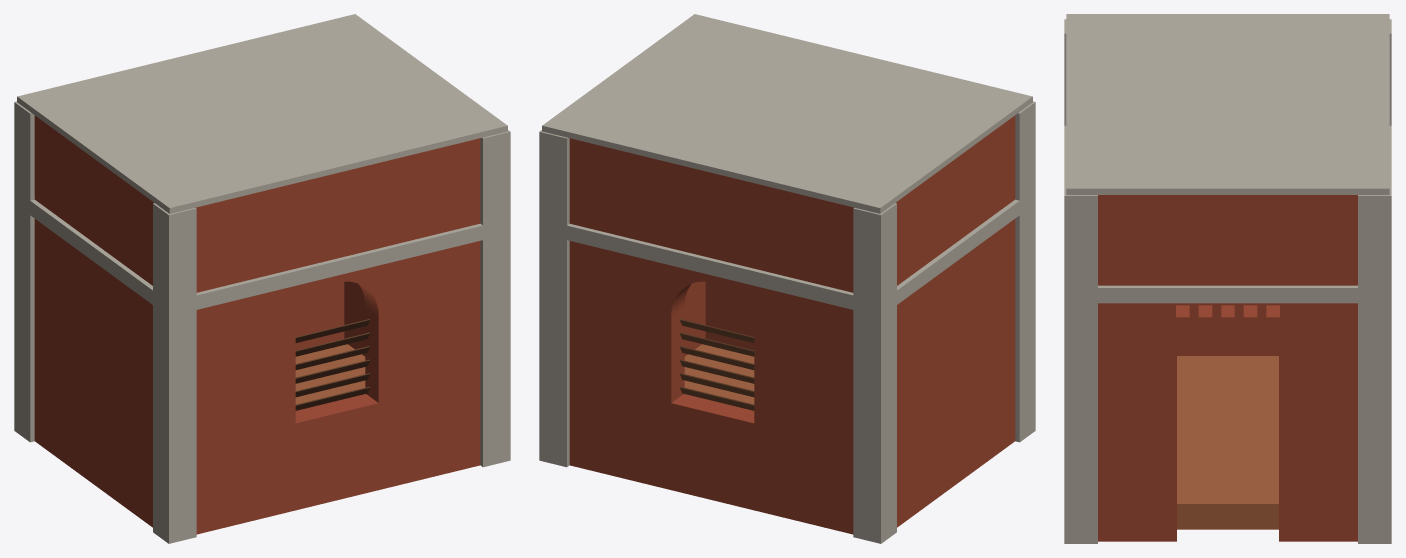
Rendered from room_bd.glb.
3 renders of one model, left to right at view 1: azimuth 30°, elevation 25°; view 2: azimuth 150°, elevation 25°; view 3: azimuth 270°, elevation 25°, orthographic. The views are drawn at different scales.
Visible parts, largest first — view 1: walls, coping, pilaster.004, pilaster.002, band, pilaster.003, floor; view 2: walls, coping, pilaster.003, pilaster.001, band, pilaster.004, floor; view 3: walls, coping, floor, pilaster.002, pilaster.001, band.
Boxes of the visible parts, box(x1,y1,x2,y2) form: walls: box(34, 115, 480, 534); coping: box(17, 14, 507, 213); pilaster.004: box(153, 203, 196, 543); pilaster.002: box(480, 130, 510, 467); band: box(14, 190, 510, 316); pilaster.003: box(14, 101, 34, 442); floor: box(295, 344, 365, 404); walls: box(569, 115, 1015, 534); coping: box(542, 14, 1032, 213); pilaster.003: box(853, 203, 896, 543); pilaster.001: box(539, 130, 569, 467); band: box(539, 190, 1035, 316); pilaster.004: box(1015, 101, 1035, 442); floor: box(684, 344, 754, 404); walls: box(1098, 195, 1357, 541); coping: box(1066, 14, 1389, 194); floor: box(1177, 356, 1278, 529); pilaster.002: box(1064, 181, 1097, 543); pilaster.001: box(1358, 181, 1391, 543); band: box(1064, 125, 1391, 303).
Size of the model in its own units: 3.7 by 3.46 by 2.9.
